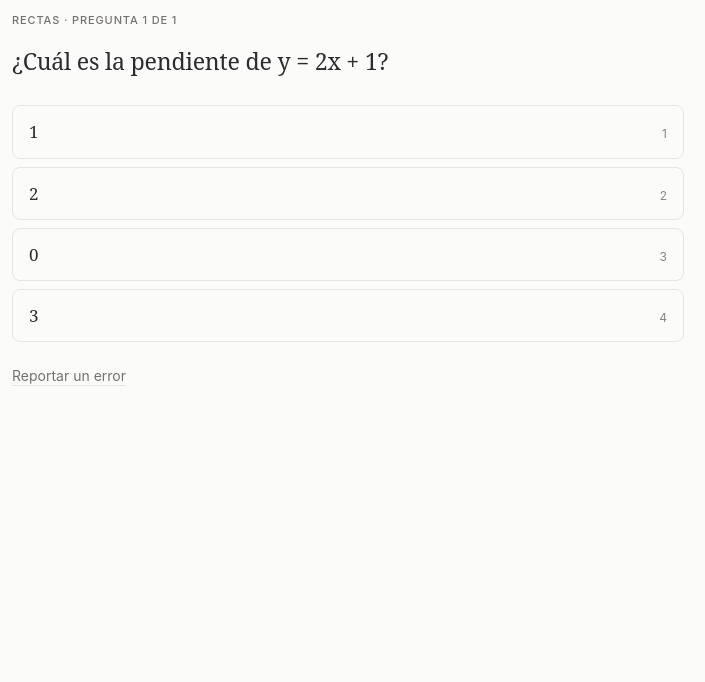
Test: Práctica v2 › Responder exige confianza y envía shown_order
The image size is (705, 682).
expect the heading "¿Cuál es la pendiente de y = 2x + 1?" is shown: met, box [12,45,388,77]
Click the button "2 2": coordinates (34, 193) [12,167,684,220]
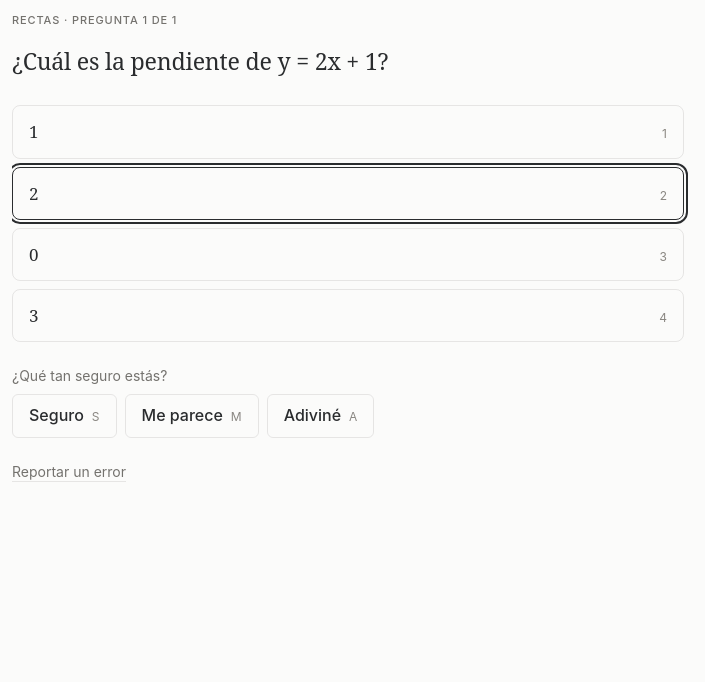
expect the button "Seguro S" is shown: met, box [12,394,116,438]
expect the button "Me parece M" is shown: met
expect the button "Adiviné A" is shown: met, box [267,394,374,438]
Click the button "Me parece M": coordinates (192, 416) [124,394,259,438]
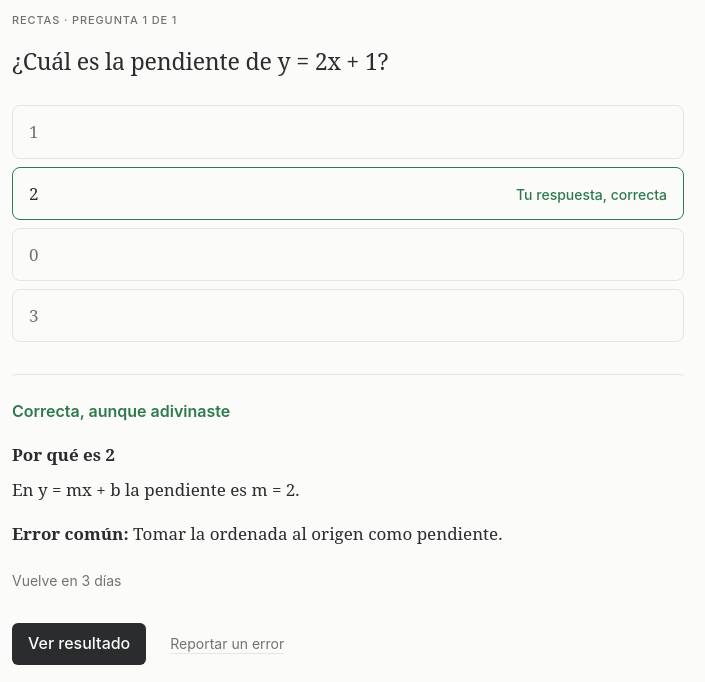
expect the text "En y = mx + b la pendiente es m = 2." is shown: met, box [12,478,300,501]
